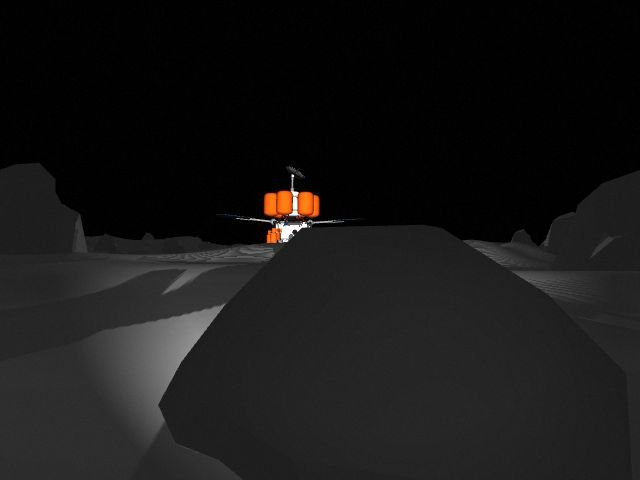homebase: (220, 163, 370, 254)
